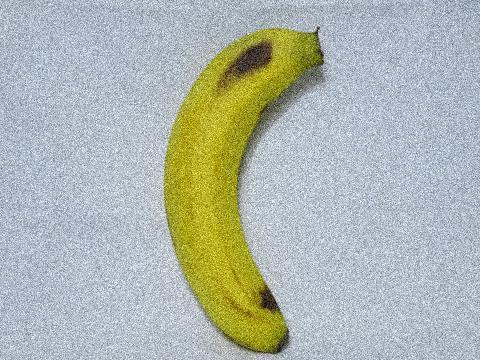freshripe: (144, 20, 350, 359)
